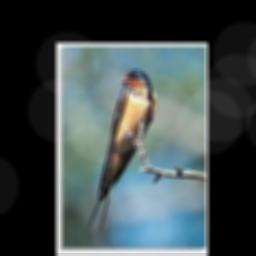Swallow: (88, 68, 156, 230)
